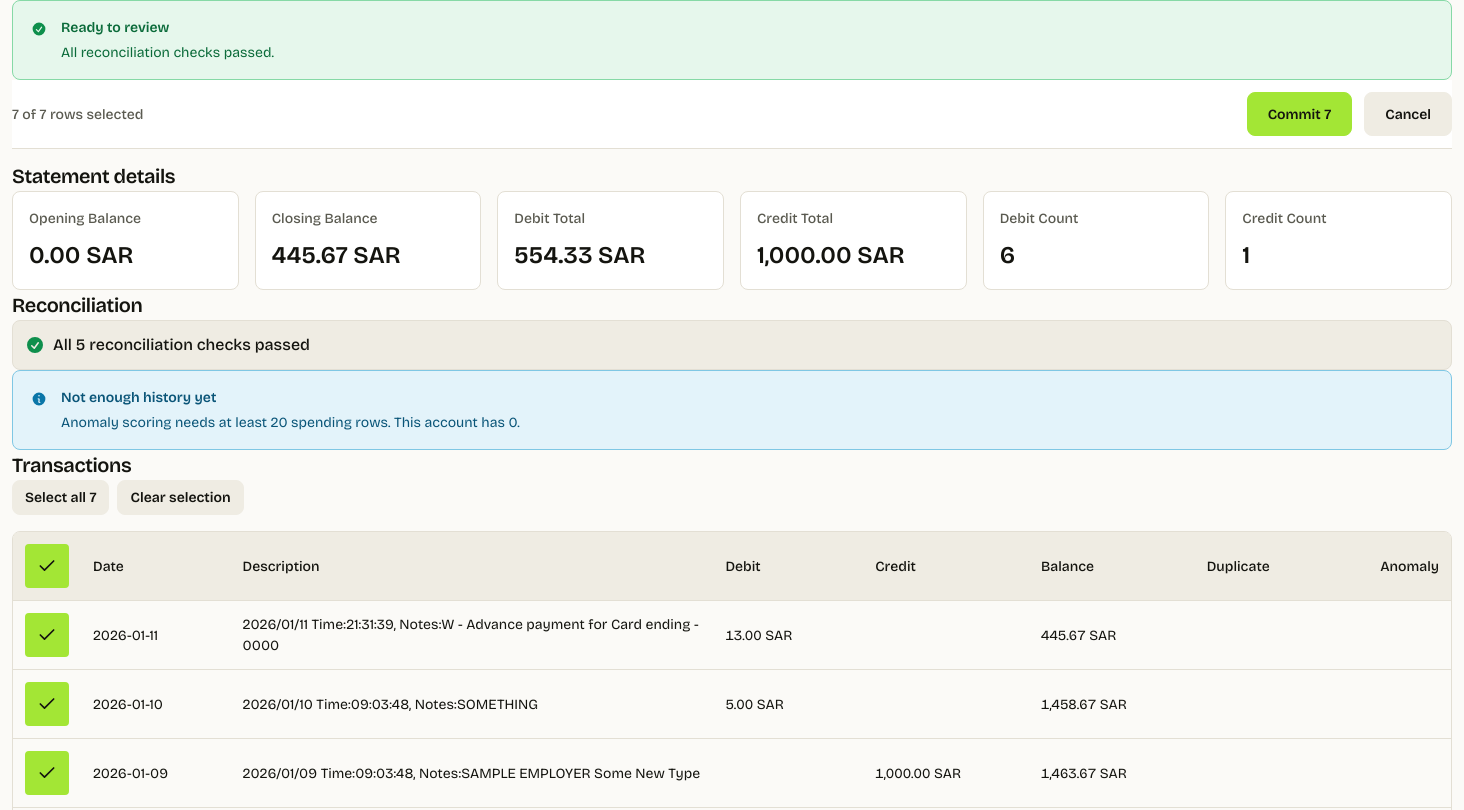
Scenario: ReviewScreen › shows error message on cancel failure
Step 1. Click the button "Cancel" → point(1408, 114), box [1364,92,1452,136]
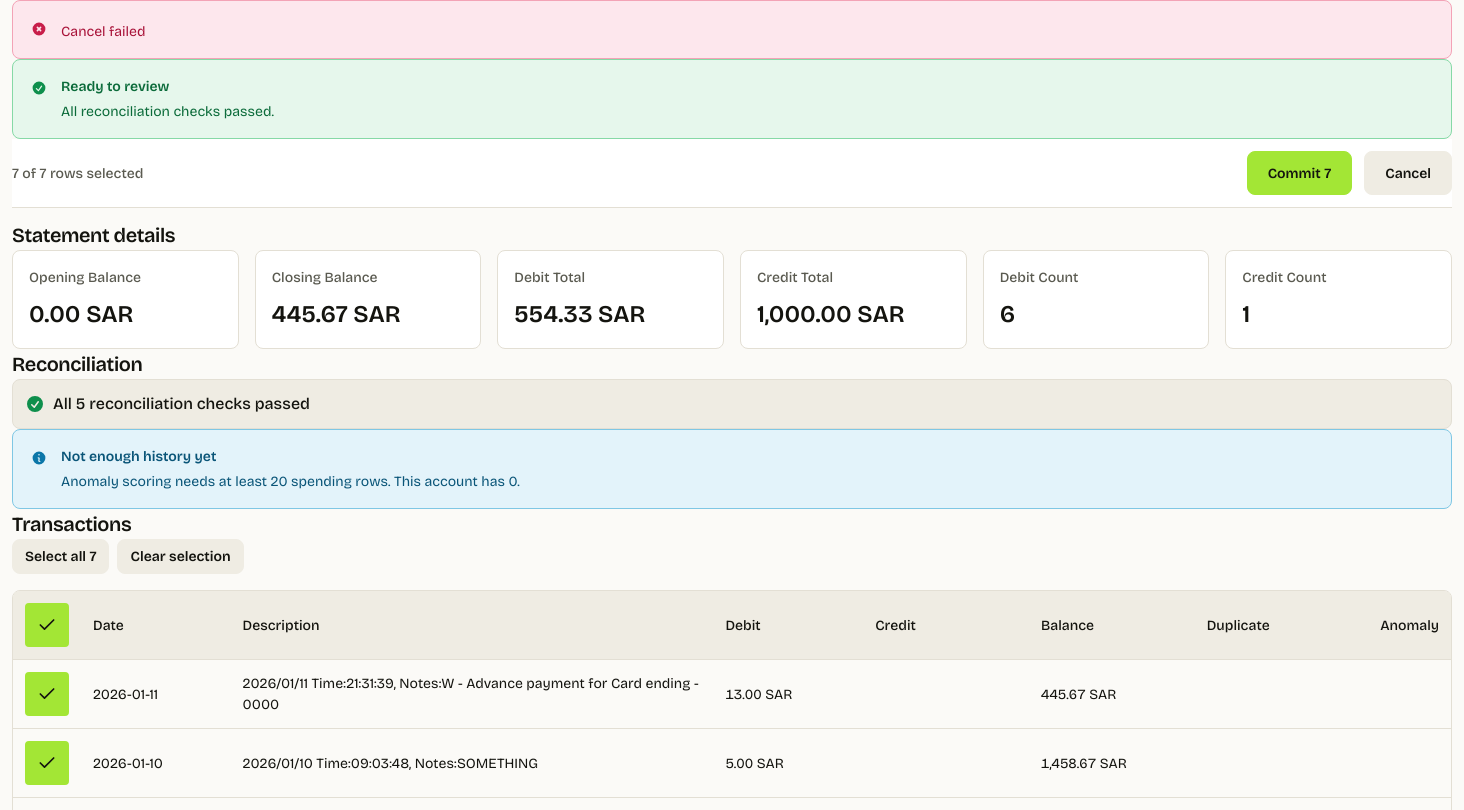
Result: the text "Cancel failed" is shown at [61,23,146,40]
